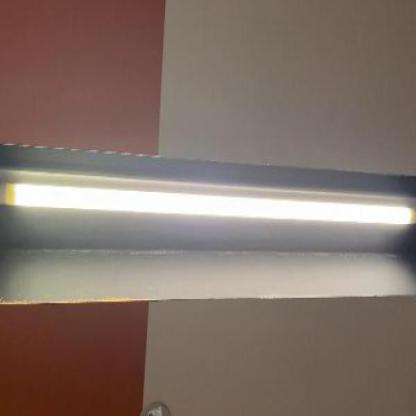light_on: (0, 155, 415, 247)
